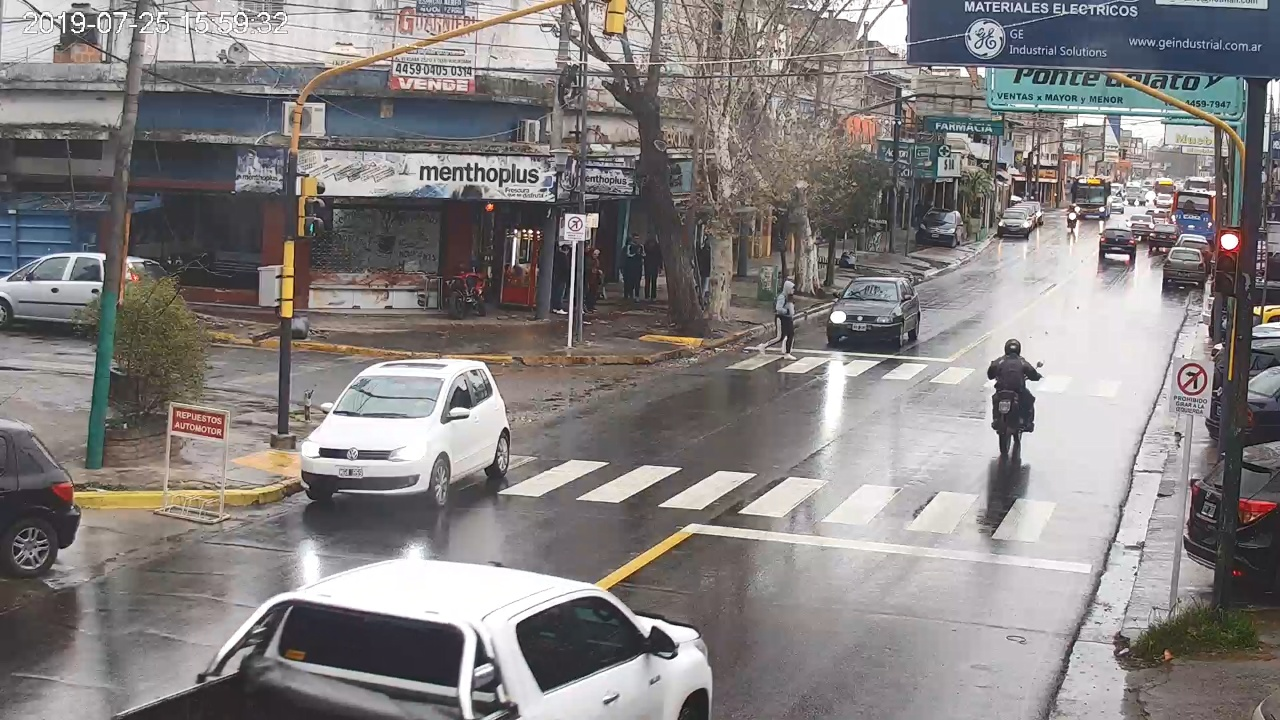car: (111, 556, 713, 720)
motorcycle: (987, 360, 1044, 454)
traffic light: (1217, 229, 1239, 294)
